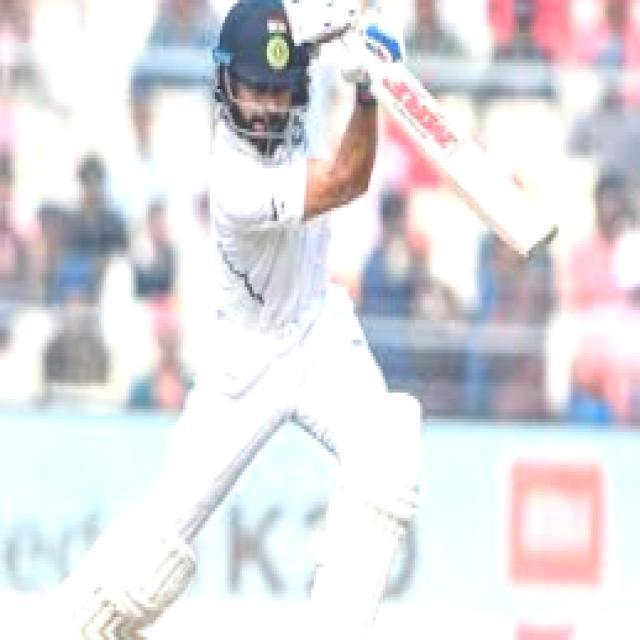bat: (364, 60, 564, 263)
toe: (518, 228, 565, 262)
